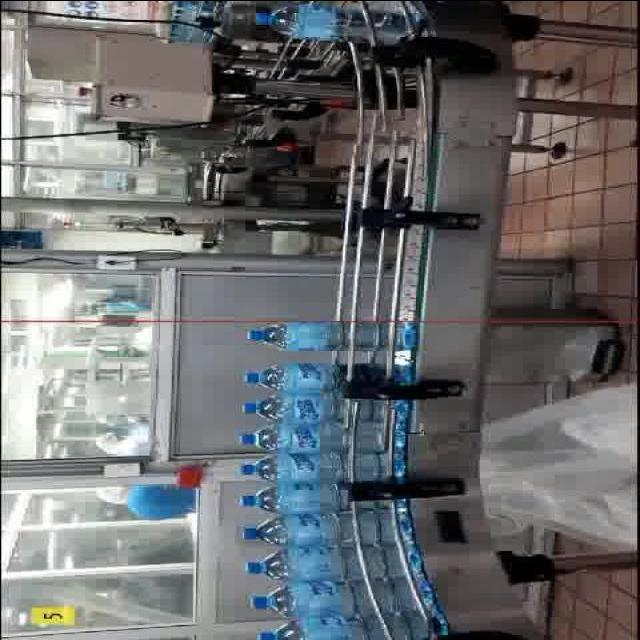bottle: (237, 382, 403, 429), (248, 577, 419, 620), (253, 3, 426, 44), (243, 545, 407, 584), (239, 510, 397, 549), (240, 354, 392, 394), (238, 450, 385, 485), (237, 421, 387, 454), (255, 612, 430, 640), (236, 479, 376, 513), (245, 319, 382, 353)
